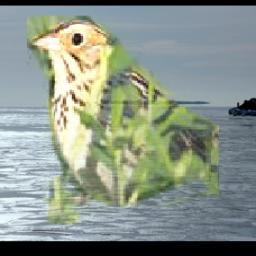Sparrow: (28, 17, 220, 226)
